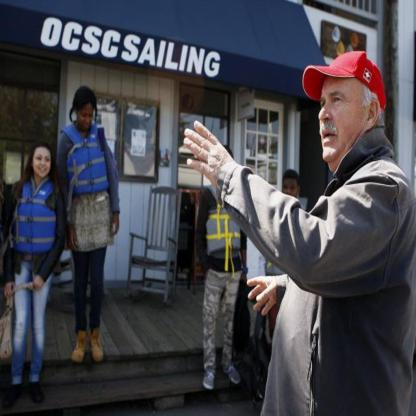face: (320, 80, 364, 162), (34, 150, 51, 178), (78, 101, 94, 130), (284, 177, 298, 204)
